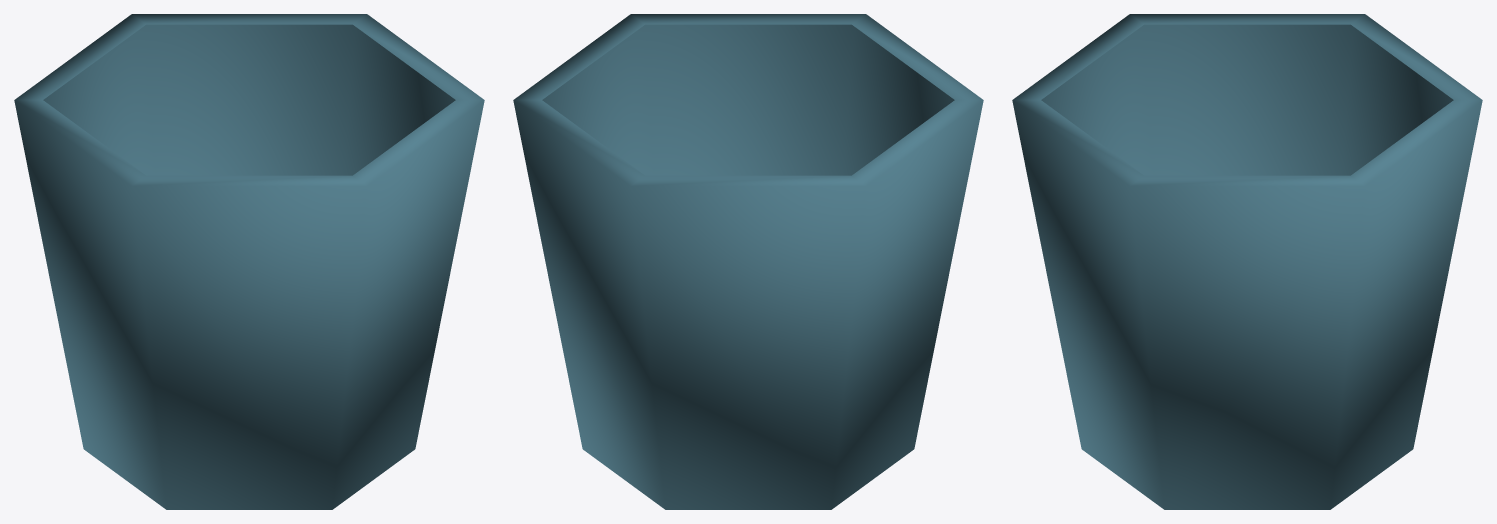
Rendered from bathroom_item_006.glb.
The picture shows the model from 3 angles, left to right: view 1: azimuth 30°, elevation 25°; view 2: azimuth 150°, elevation 25°; view 3: azimuth 270°, elevation 25°; orthographic projection.
Parts seen in each view (by area): view 1: bathroom_item_006; view 2: bathroom_item_006; view 3: bathroom_item_006.
Boxes of the visible parts, bbox=[...] form: bathroom_item_006: bbox=[14, 14, 484, 509]; bathroom_item_006: bbox=[513, 14, 983, 509]; bathroom_item_006: bbox=[1012, 14, 1482, 509].
Size of the model in its own units: 0.1907 by 0.1803 by 0.2202.
1 material, 1 textured.
